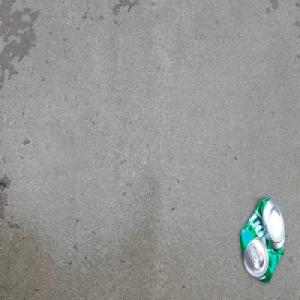SodaCan: (238, 194, 287, 286)
